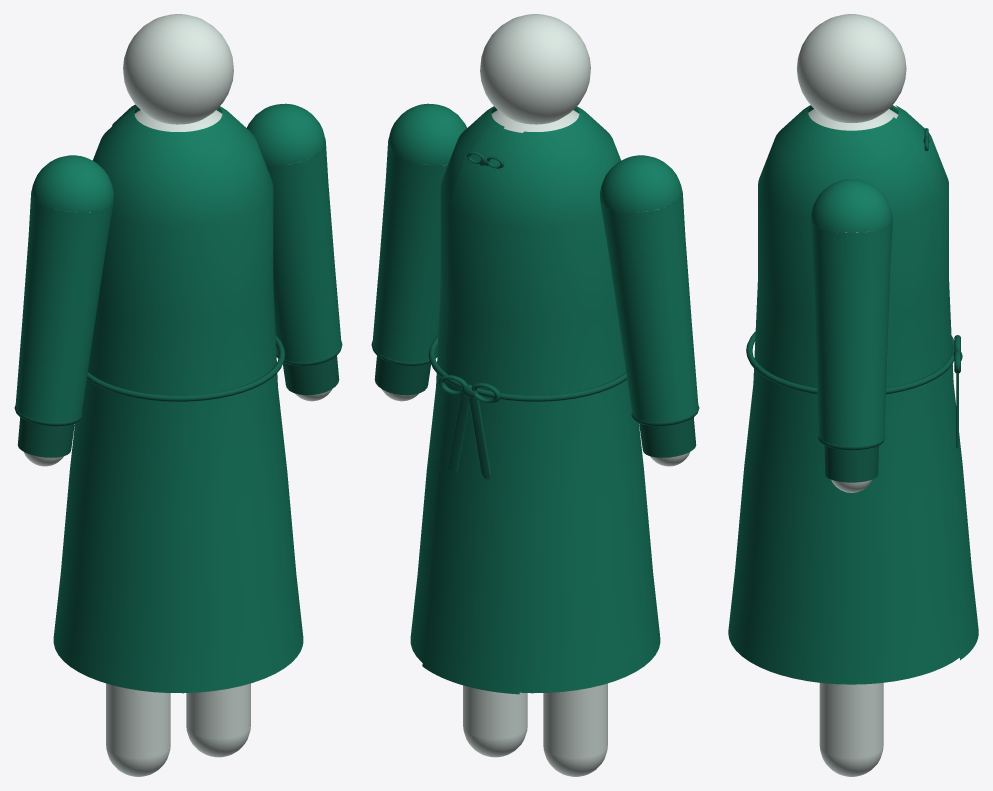
File: bata.glb
3 views of the same model, side by side, from view 1: azimuth 30°, elevation 25°; view 2: azimuth 150°, elevation 25°; view 3: azimuth 270°, elevation 25° (orthographic).
Visible parts, largest first — view 1: gown-body, mannequin, sleeve-right-tube, sleeve-left-tube, sleeve-right-shoulder, sleeve-left-shoulder, cuff-right, tie-waist-belt, cuff-left; view 2: gown-body, gown-wrap-flap, mannequin, sleeve-right-tube, sleeve-left-tube, sleeve-right-shoulder, sleeve-left-shoulder, tie-waist, cuff-right, cuff-left, tie-waist-belt; view 3: gown-body, mannequin, sleeve-left-tube, gown-wrap-flap, sleeve-left-shoulder, cuff-left, tie-waist-belt, tie-waist.
Part boxes in pixels (<box>): gown-body: <box>53,106,303,693</box>; mannequin: <box>24,14,332,776</box>; sleeve-right-tube: <box>15,193,113,422</box>; sleeve-left-tube: <box>266,139,341,362</box>; sleeve-right-shoulder: <box>31,155,113,212</box>; sleeve-left-shoulder: <box>247,103,325,165</box>; cuff-right: <box>17,417,74,457</box>; tie-waist-belt: <box>87,335,285,401</box>; cuff-left: <box>283,356,339,395</box>; gown-body: <box>410,106,660,693</box>; gown-wrap-flap: <box>422,123,529,694</box>; mannequin: <box>381,14,689,776</box>; sleeve-right-tube: <box>600,193,698,422</box>; sleeve-left-tube: <box>372,139,447,362</box>; sleeve-right-shoulder: <box>600,155,682,212</box>; sleeve-left-shoulder: <box>388,103,466,165</box>; tie-waist: <box>438,375,500,479</box>; cuff-right: <box>639,417,696,457</box>; cuff-left: <box>374,356,430,395</box>; tie-waist-belt: <box>428,335,626,401</box>; gown-body: <box>728,105,959,684</box>; mannequin: <box>796,14,906,776</box>; sleeve-left-tube: <box>810,221,892,446</box>; gown-wrap-flap: <box>892,105,978,660</box>; sleeve-left-shoulder: <box>810,179,892,232</box>; cuff-left: <box>824,445,878,482</box>; tie-waist-belt: <box>746,331,954,394</box>; tie-waist: <box>953,335,962,448</box>.
Bounding box in the file's own units: 0.7948 × 1.77 × 0.548.
